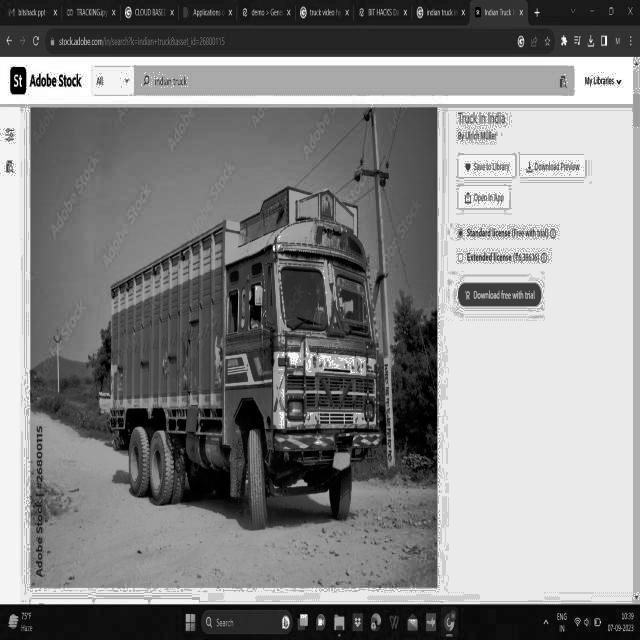HCV: (93, 168, 388, 550)
